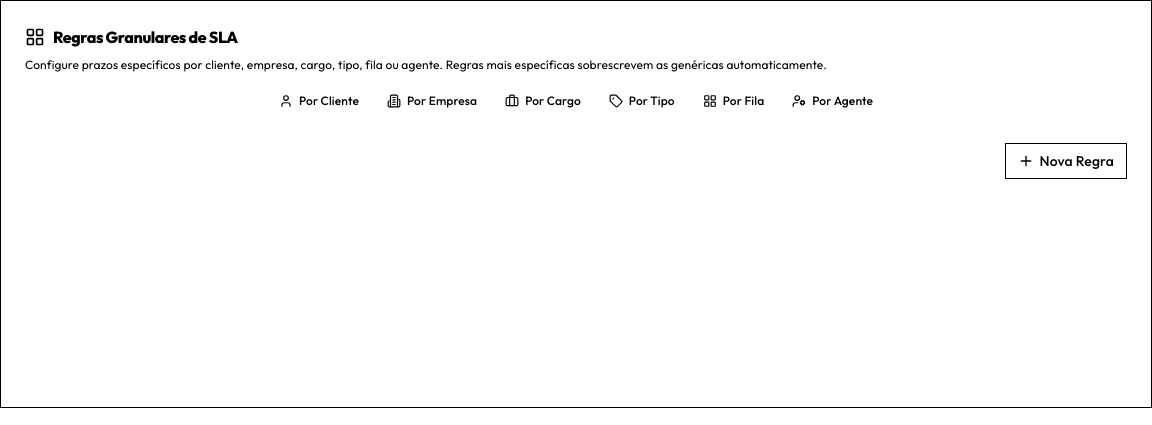
Test case: SLARulesManager › can switch between scope tabs
The width and height of the screenshot is (1152, 425).
Earlier steps of the test are not shown.
Click the tab "Por Agente" at x=833, y=100, box [780,86,885,114]
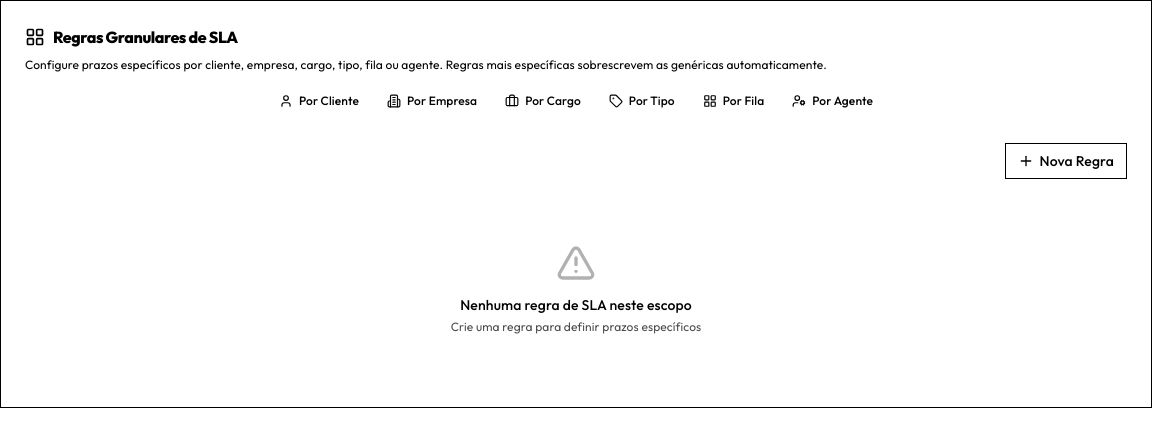
expect the text "Nenhuma regra de SLA neste escopo" is shown: met, box [460,294,692,314]
